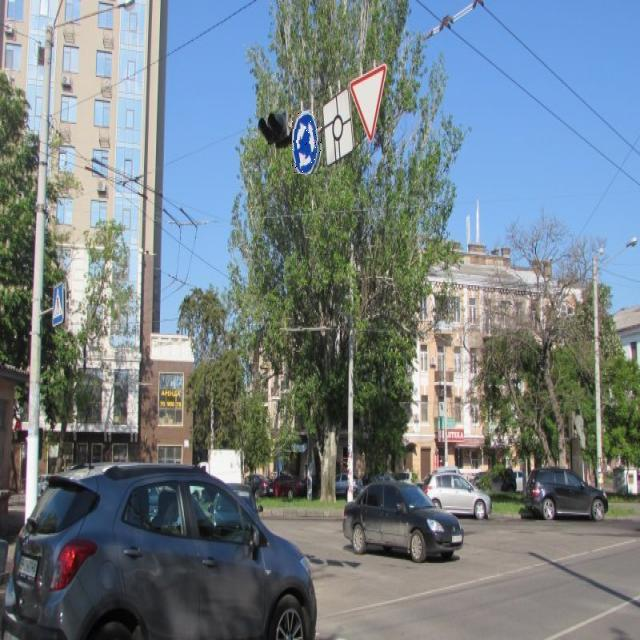roundabout: (292, 111, 323, 174)
